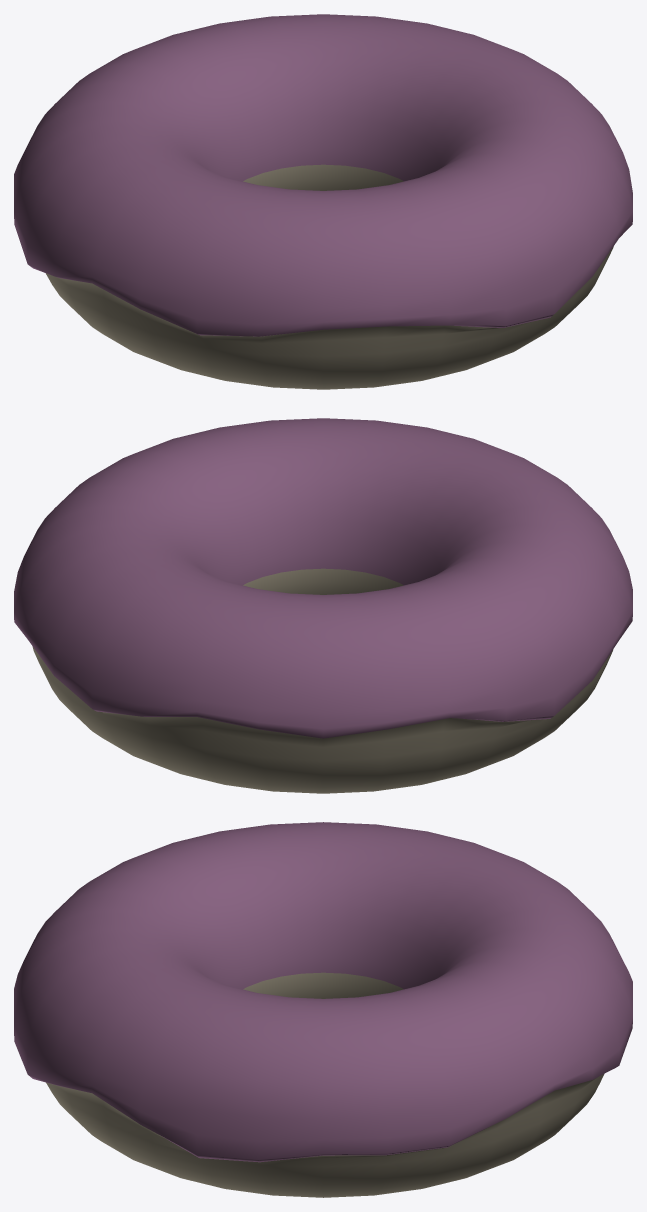
The model's file is dona.fbx.
3 renders of one model, top to bottom at view 1: azimuth 30°, elevation 25°; view 2: azimuth 150°, elevation 25°; view 3: azimuth 270°, elevation 25°, orthographic.
Visible parts, largest first — view 1: pTorus1; view 2: pTorus1; view 3: pTorus1.
Boxes of the visible parts, left/top/right/bottom form: pTorus1: left=14, top=14, right=632, bottom=389; pTorus1: left=14, top=418, right=632, bottom=793; pTorus1: left=14, top=822, right=632, bottom=1197.
Bounding box in the file's own units: 11.1 × 3.65 × 11.04.
